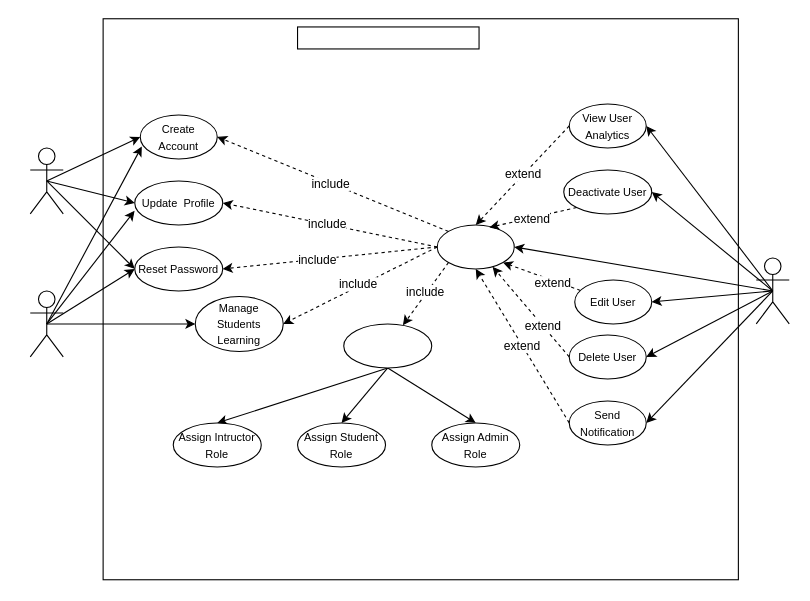
The diagram is 810 pixels wide and 601 high, and some of its shapes have lost their labels. Each missing label, with the centre of its shape:
Admin: (772,290)
Assign User Role: (387,345)
Instructor: (46,323)
Manage User: (475,246)
Student: (46,180)
User Management: (387,37)
